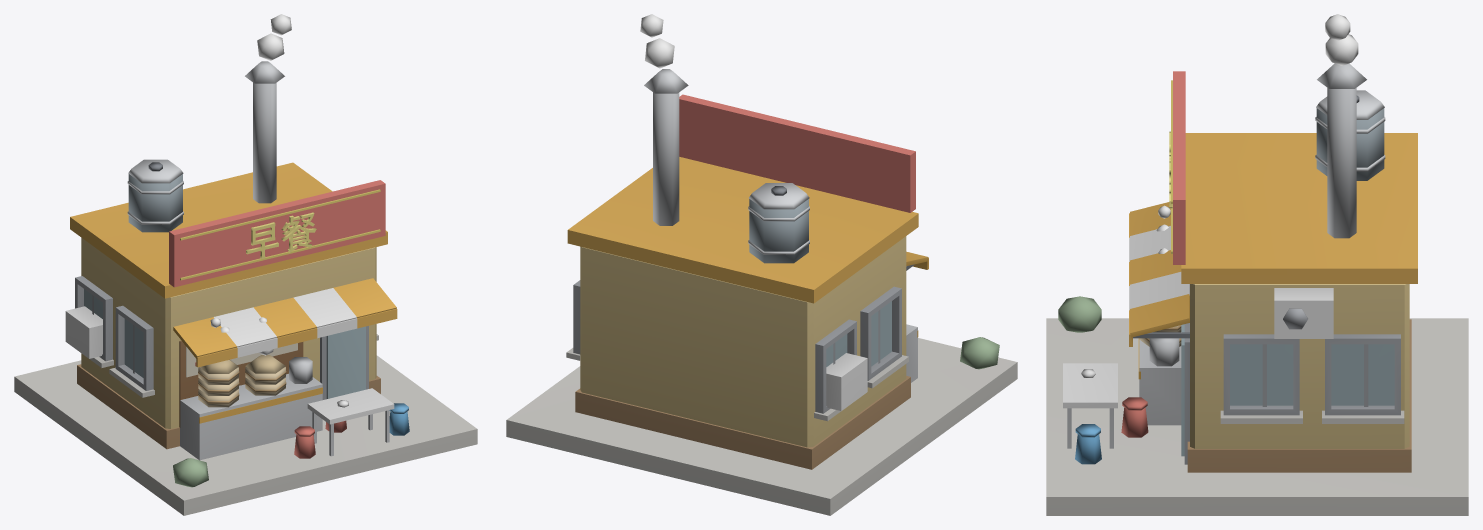
The model's file is breakfast.glb.
The picture shows the model from 3 angles, left to right: view 1: azimuth 30°, elevation 25°; view 2: azimuth 150°, elevation 25°; view 3: azimuth 270°, elevation 25°; orthographic projection. The views are drawn at different scales.
Visible parts, largest first — view 1: breakfast; view 2: breakfast; view 3: breakfast.
Boxes of the visible parts, x1=… form: breakfast: x1=14, y1=14, x2=477, y2=515; breakfast: x1=506, y1=14, x2=1017, y2=515; breakfast: x1=1046, y1=14, x2=1468, y2=515.
Size of the model in its own units: 1 by 1.18 by 1.
